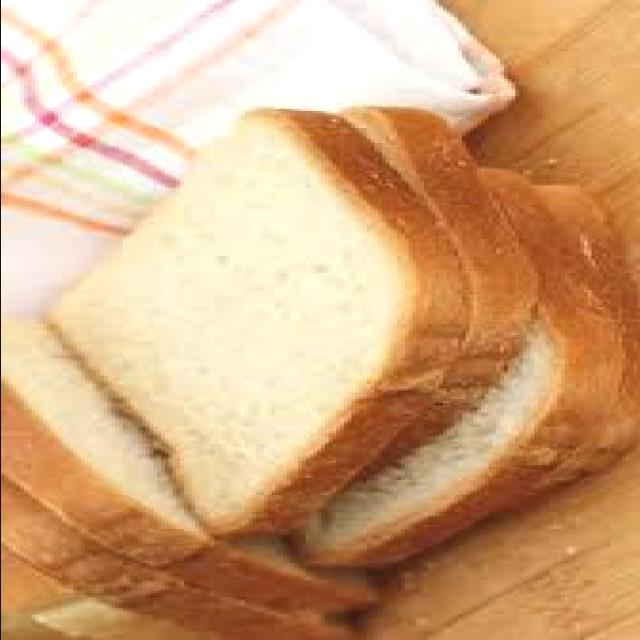roti tawar: (53, 107, 469, 535)
